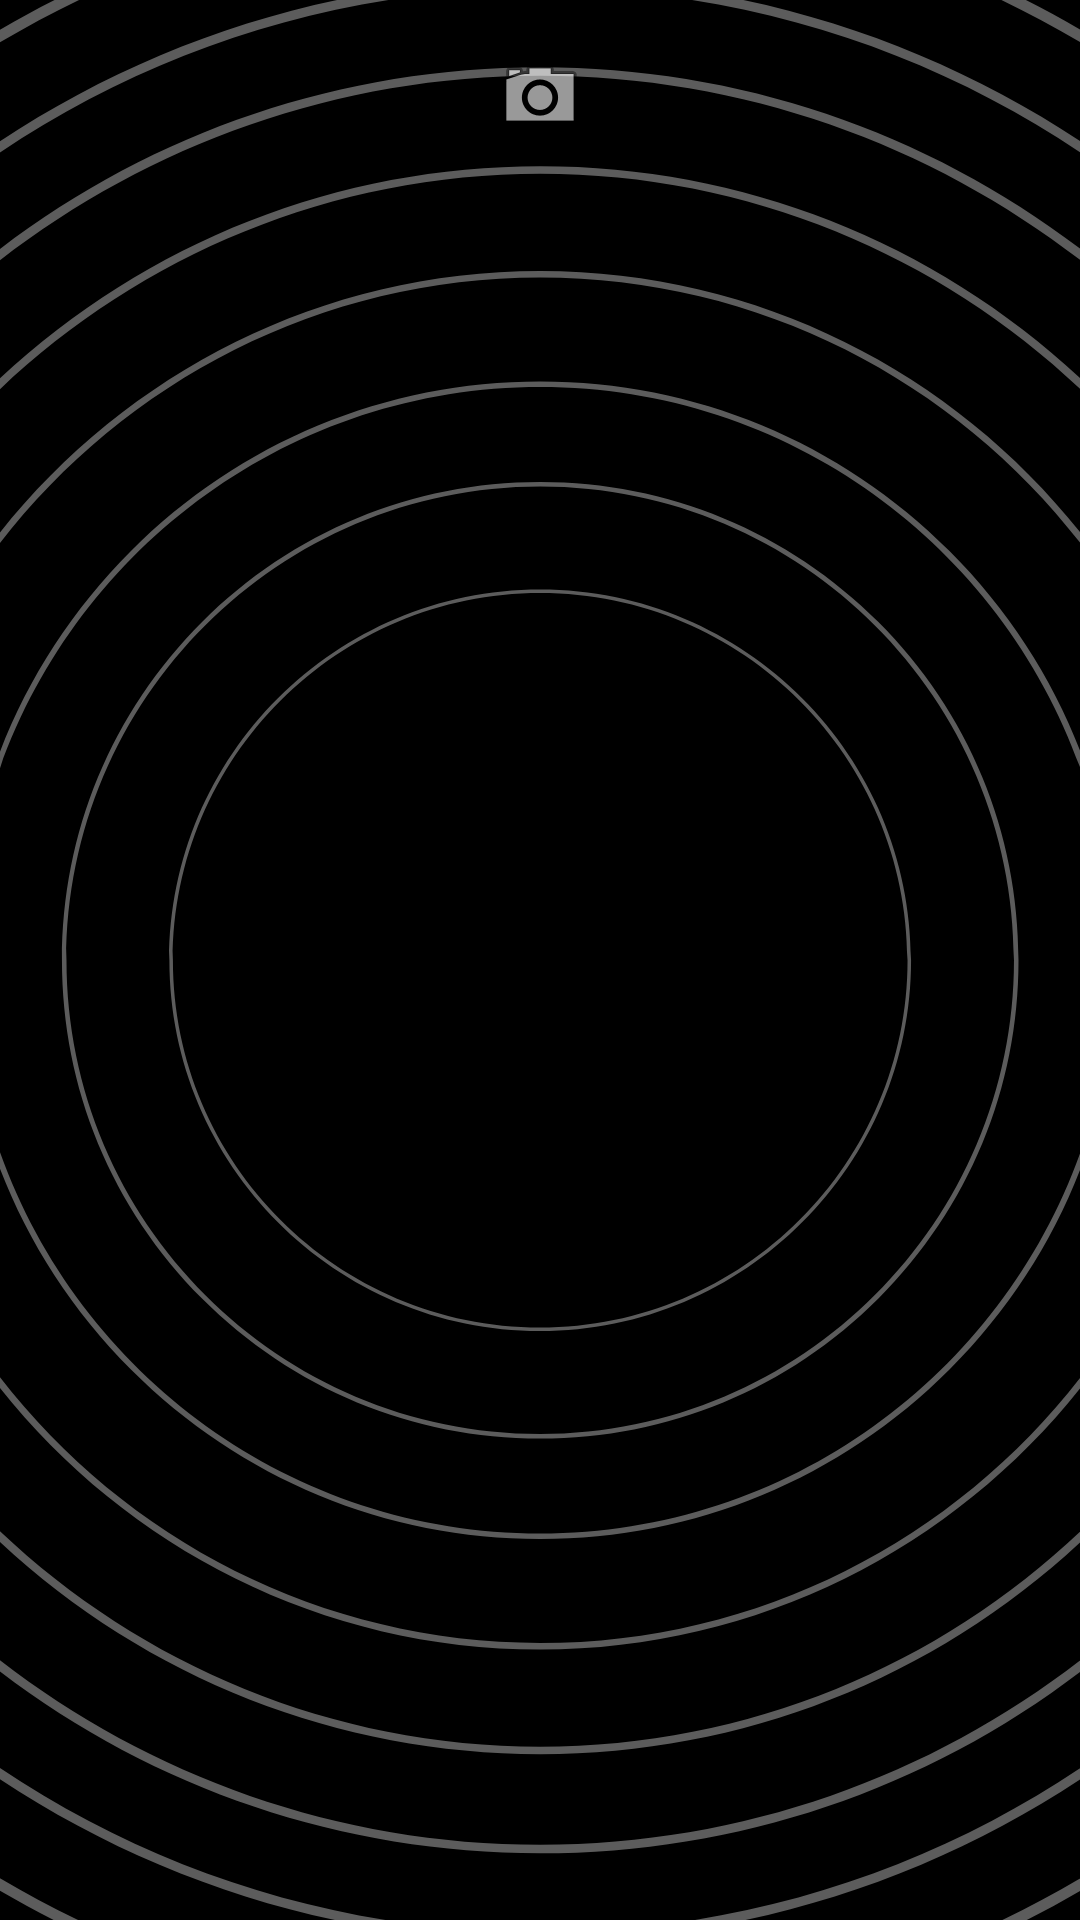

Icon click points for this 1080×1920 phone screenshot, format [x,y]:
camera: [540,94]
